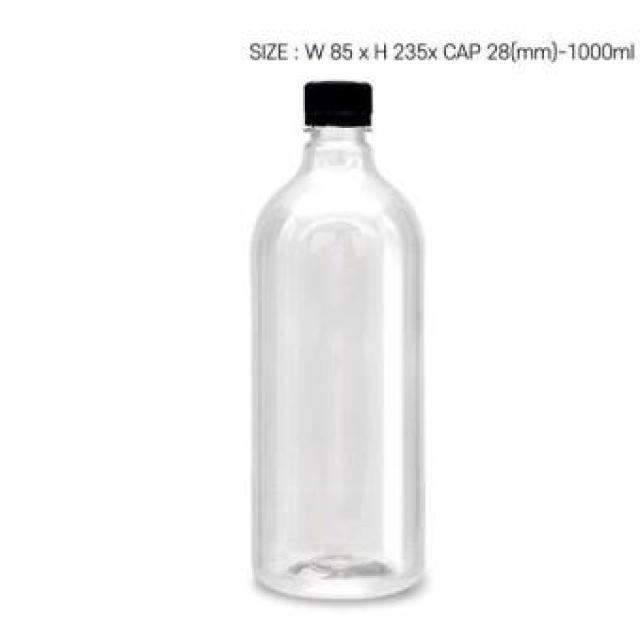bottle: (250, 86, 428, 598)
